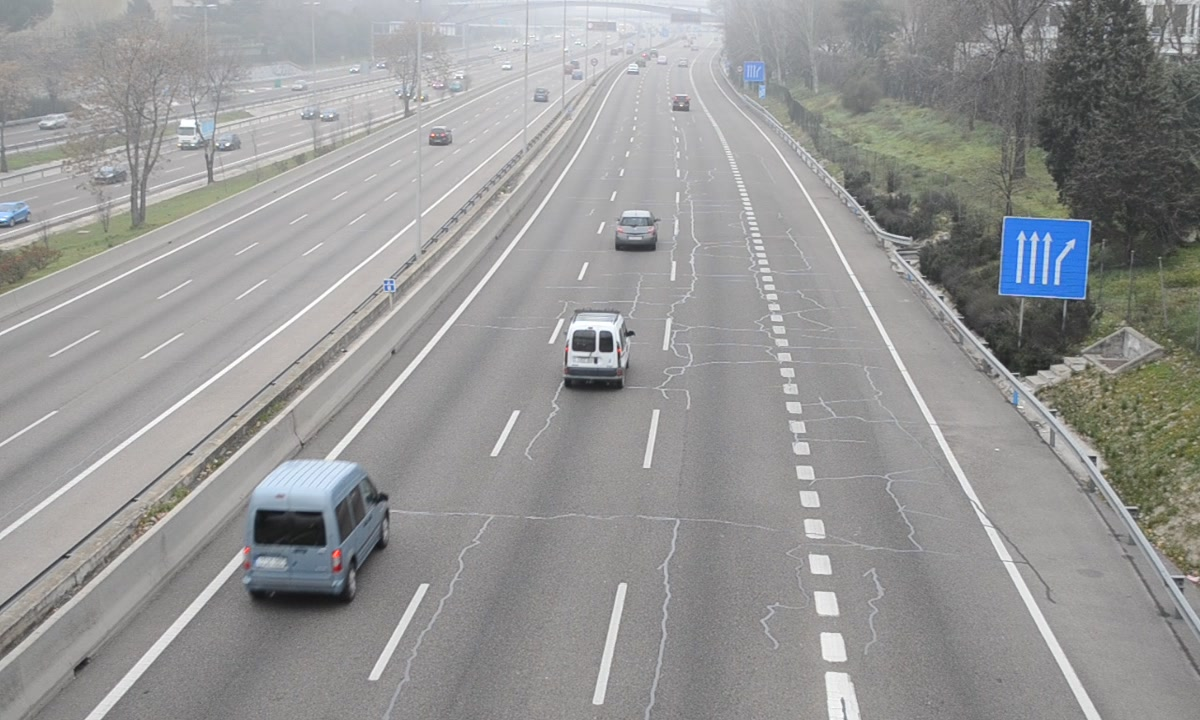car: (614, 209, 659, 248)
van: (245, 460, 389, 599), (565, 312, 630, 384)
